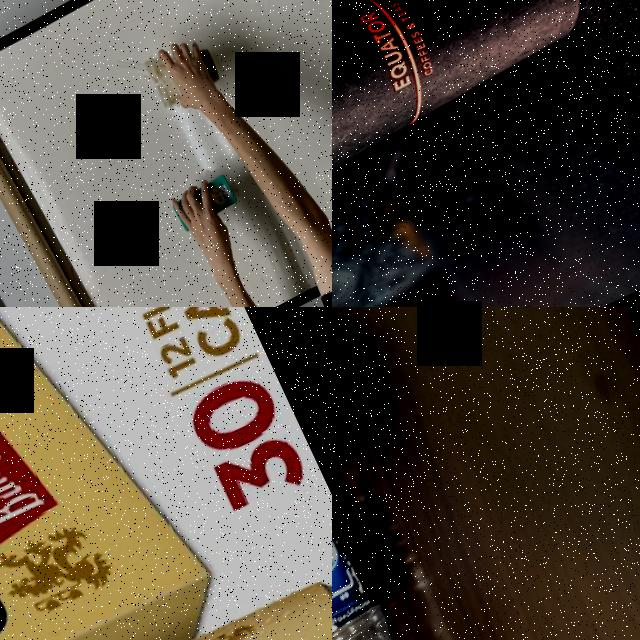bottle: (332, 384, 487, 640)
can: (0, 558, 332, 640)
cup: (332, 0, 611, 231), (139, 32, 226, 114)
